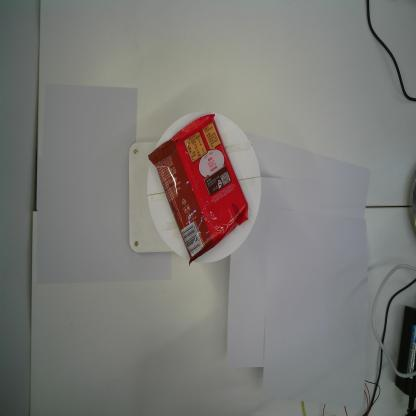Dessert: (148, 113, 250, 268)
